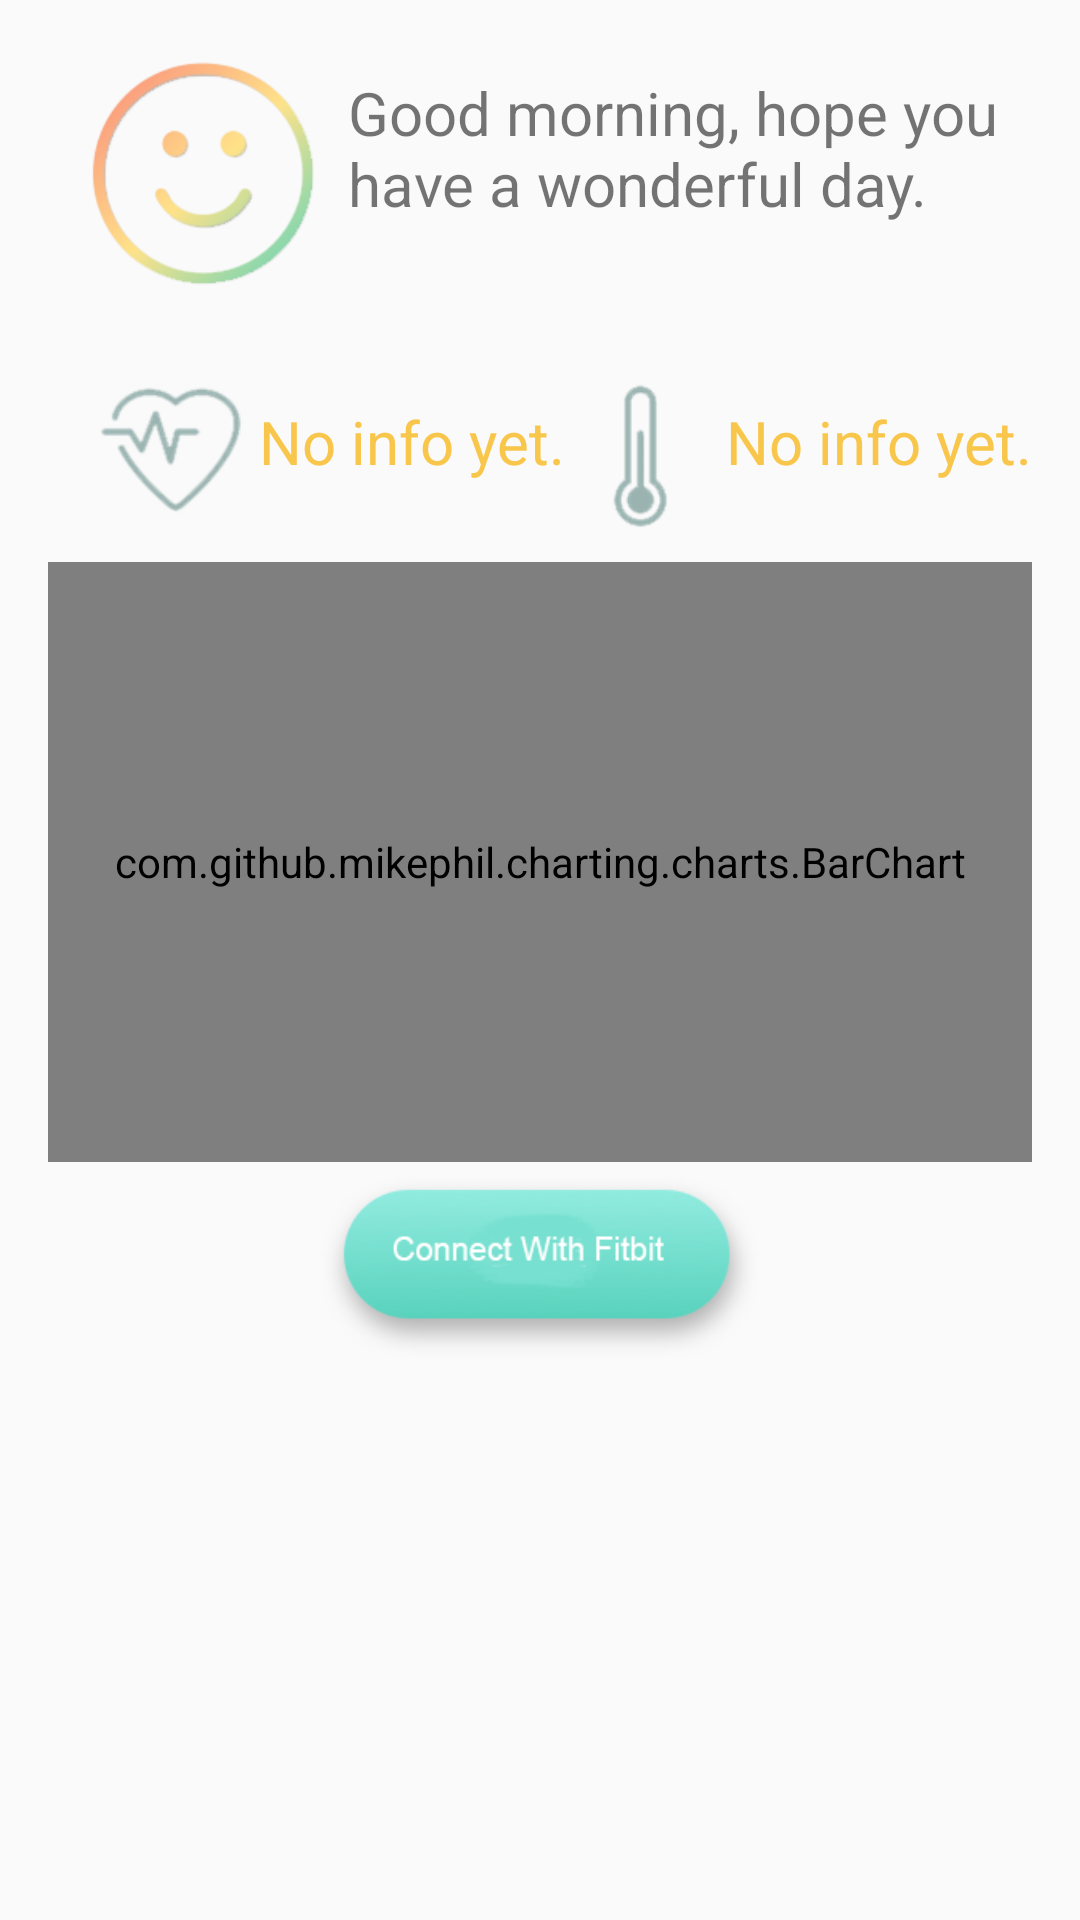

Icon click points for this 1080 x 1920 phone screenshot, format point (x, y):
heart: point (171, 449)
smile: point (203, 173)
